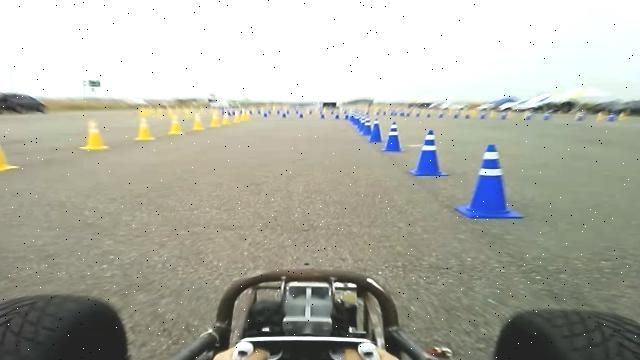blue cone: (454, 143, 524, 219), (409, 129, 450, 176), (382, 121, 405, 152), (369, 119, 383, 143)
yellow cone: (80, 119, 109, 150), (0, 132, 20, 172), (135, 116, 155, 141), (168, 115, 184, 135), (192, 113, 205, 130), (210, 108, 220, 128), (222, 110, 231, 125), (242, 108, 250, 121), (233, 110, 241, 123)
